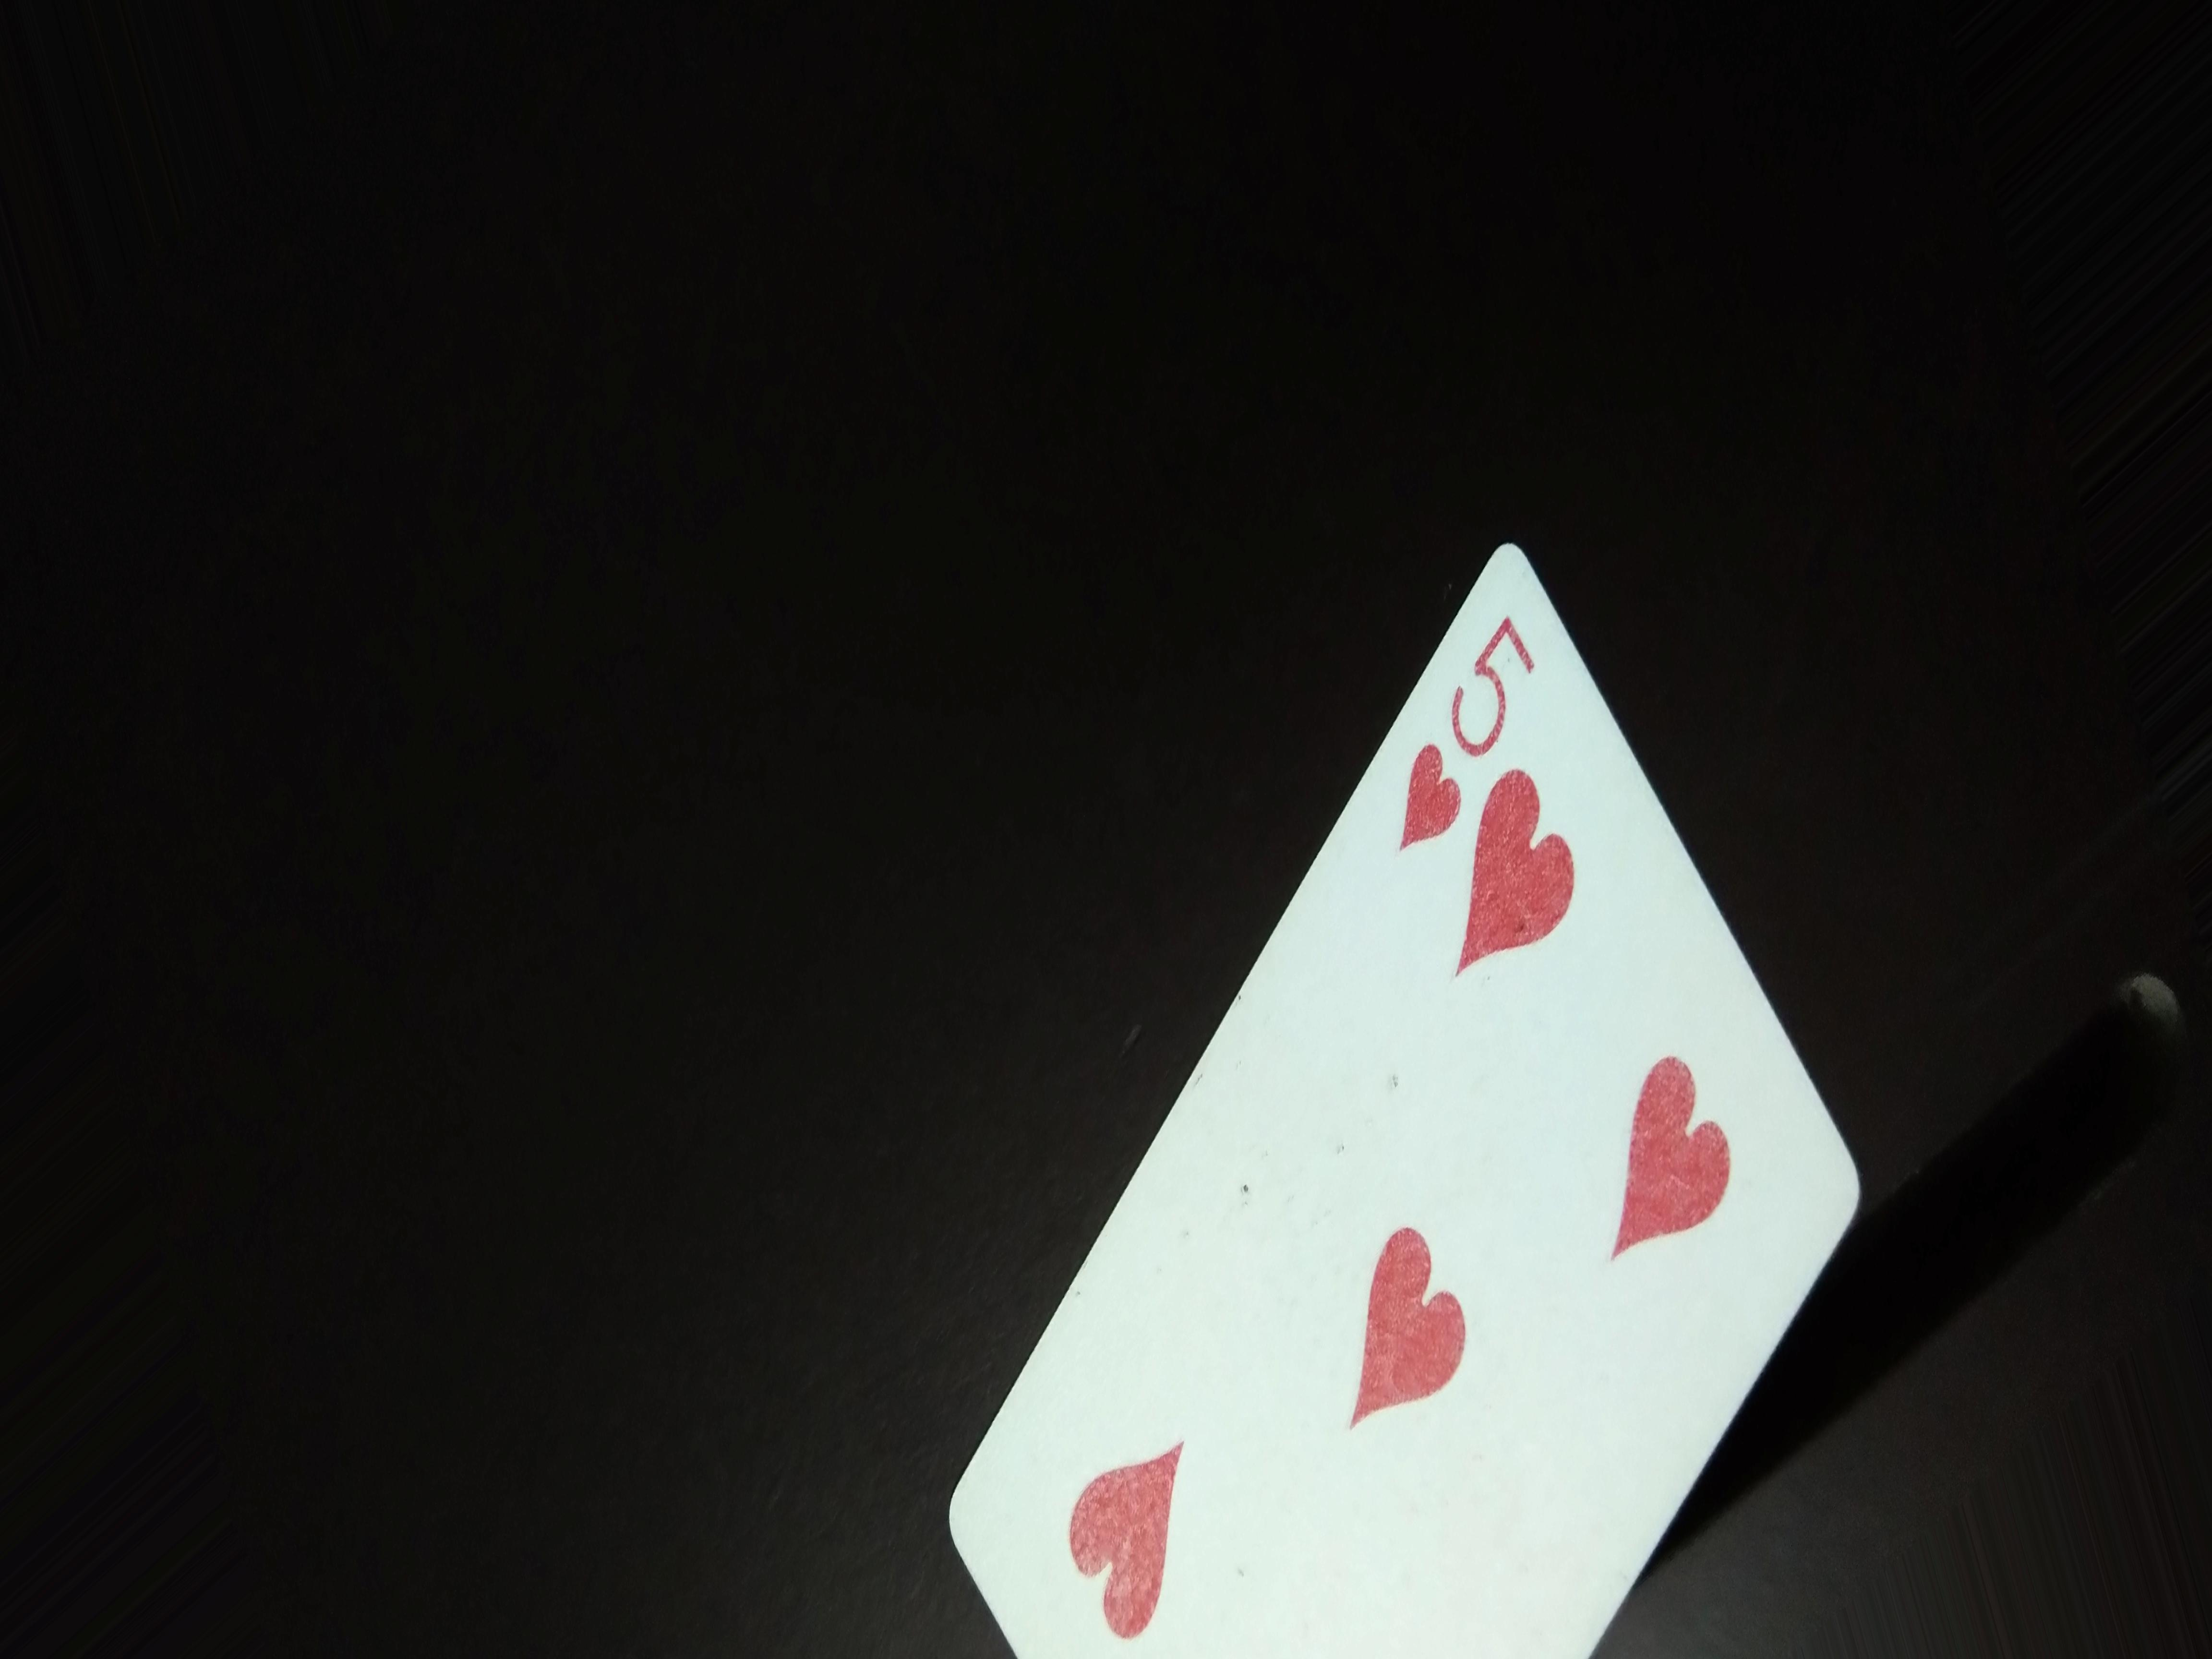5H: (1386, 591, 1543, 859)
